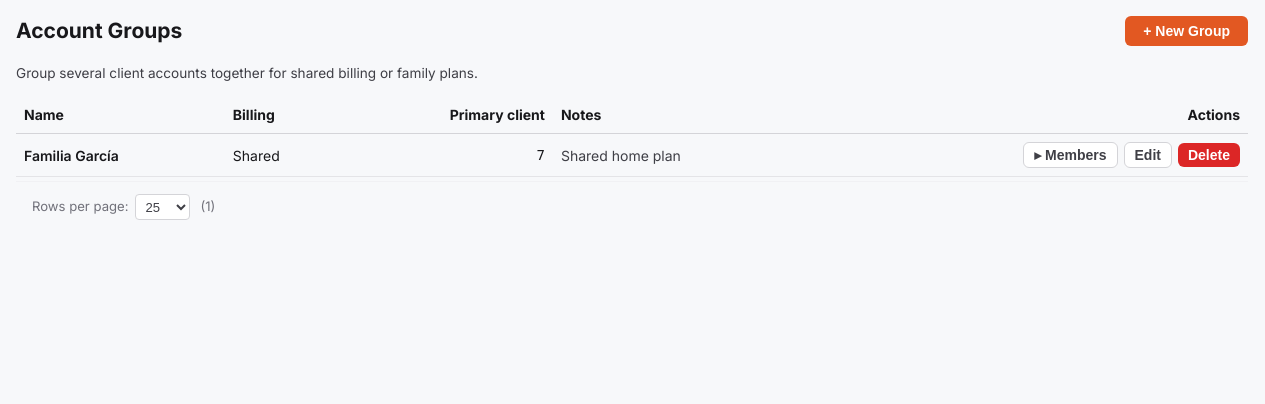
Test case: ClientGroupList page › expanding a shared group shows members with balances, Add members, and Pay
The image size is (1265, 404).
Expected: the text "Familia García" is shown, [16,134,225,177]
What coordinates should you click on to do the following:
click the button "▸ Members"
I would click on:
 (1070, 156)
Its box is [1023,142,1118,168].
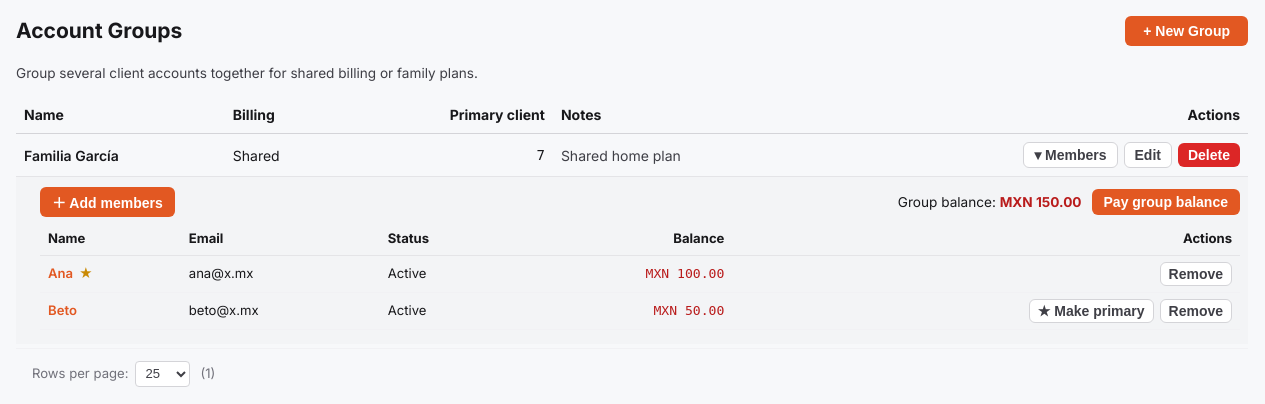
Expected: the link "Ana" is shown, [48,265,73,281]
Expected: the link "Beto" is shown, [48,302,77,318]
Expected: the text "MXN 100.00" is shown, [513,256,732,293]
